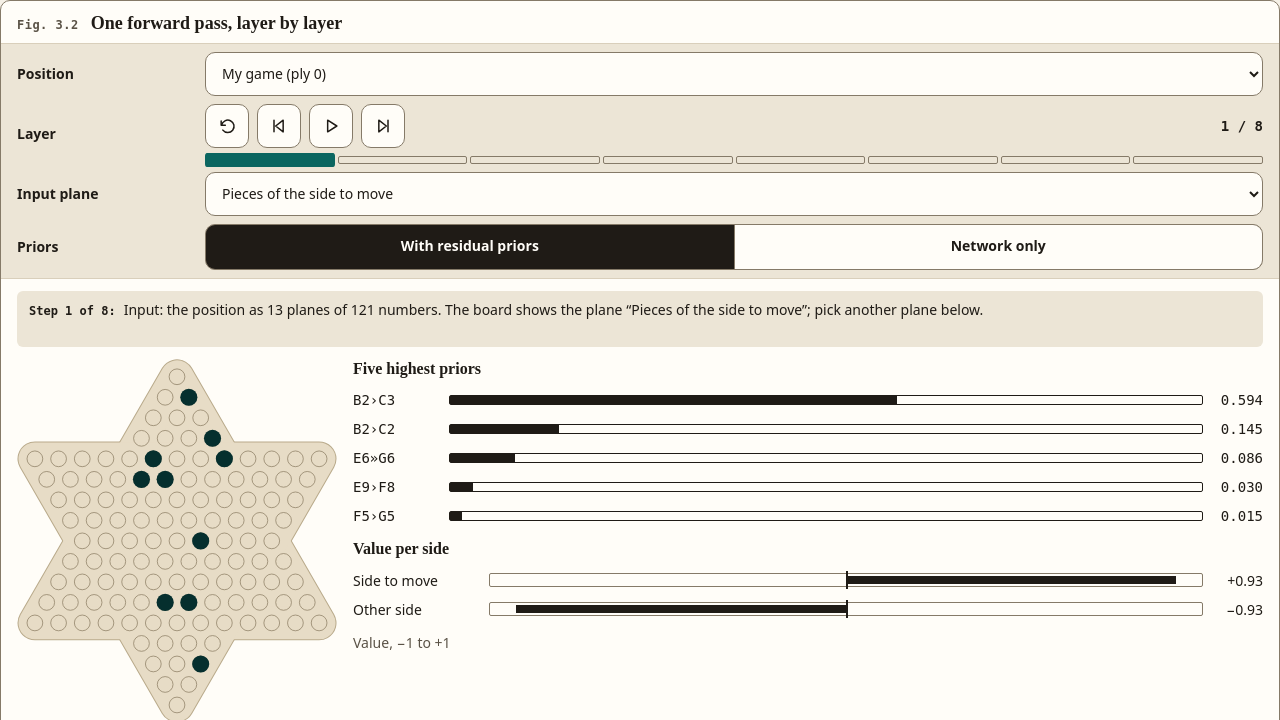
Test: the net figures on a 5-row snapshot › V9b offers My game on 5 rows; its planes 3 and 4 are the 15-cell houses and the caption says so, the examples keep the corner labels
Select "My game (ply 0)" in the dropdown labelled "Position" at (734, 74), box [205,52,1263,96]
(page scrolled)
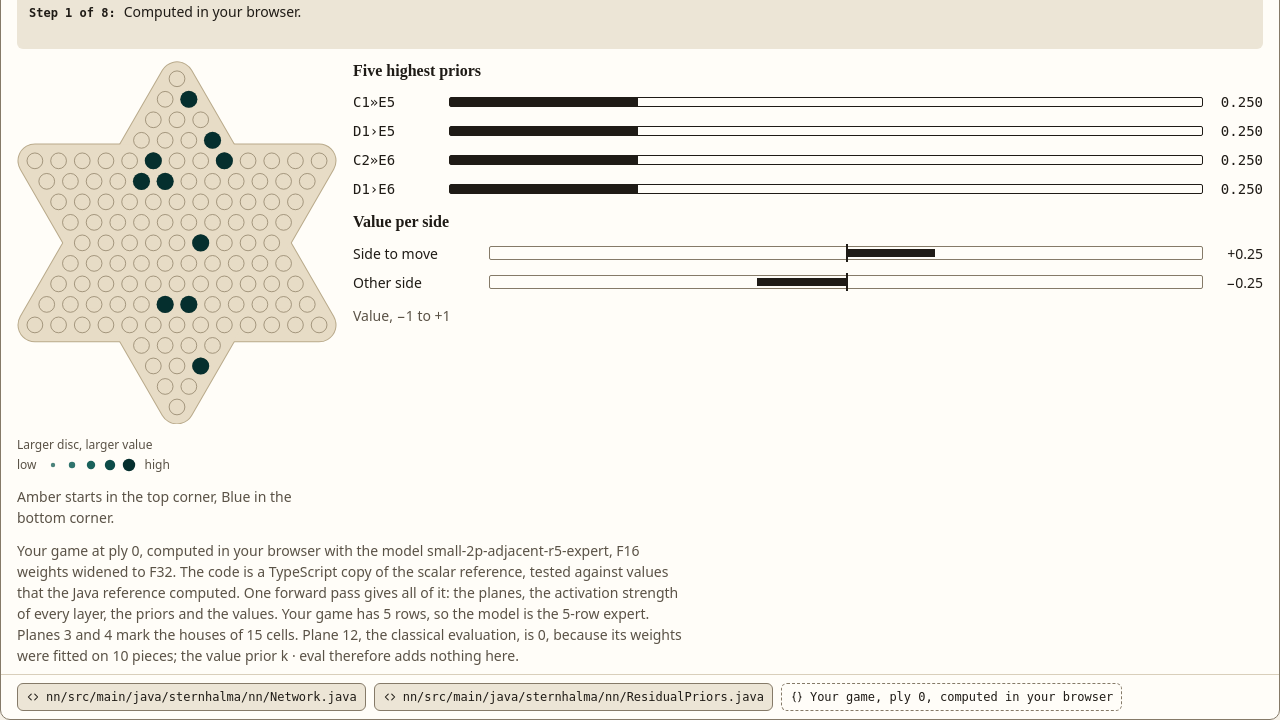
expect the text "Planes 3 and 4 mark the houses of 15 cells" is shown: met, box [17,604,682,665]
